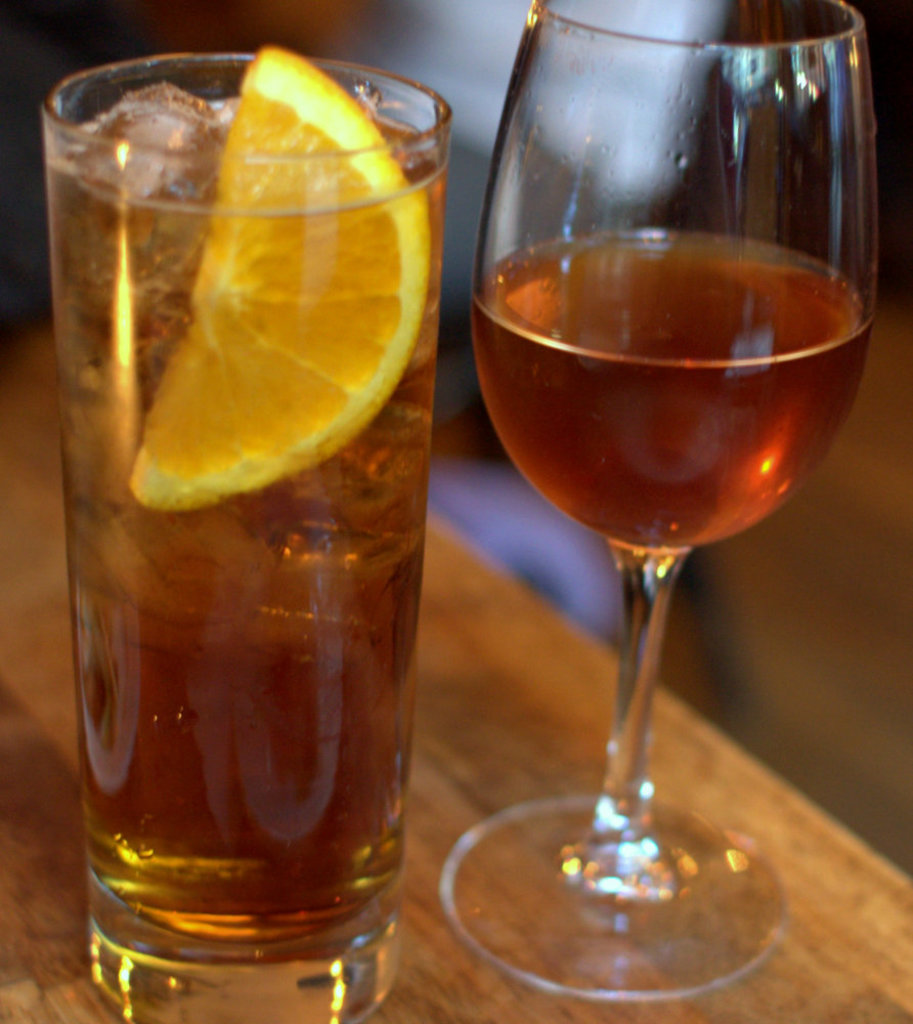Beer: (438, 0, 878, 1001), (41, 42, 451, 1024)
